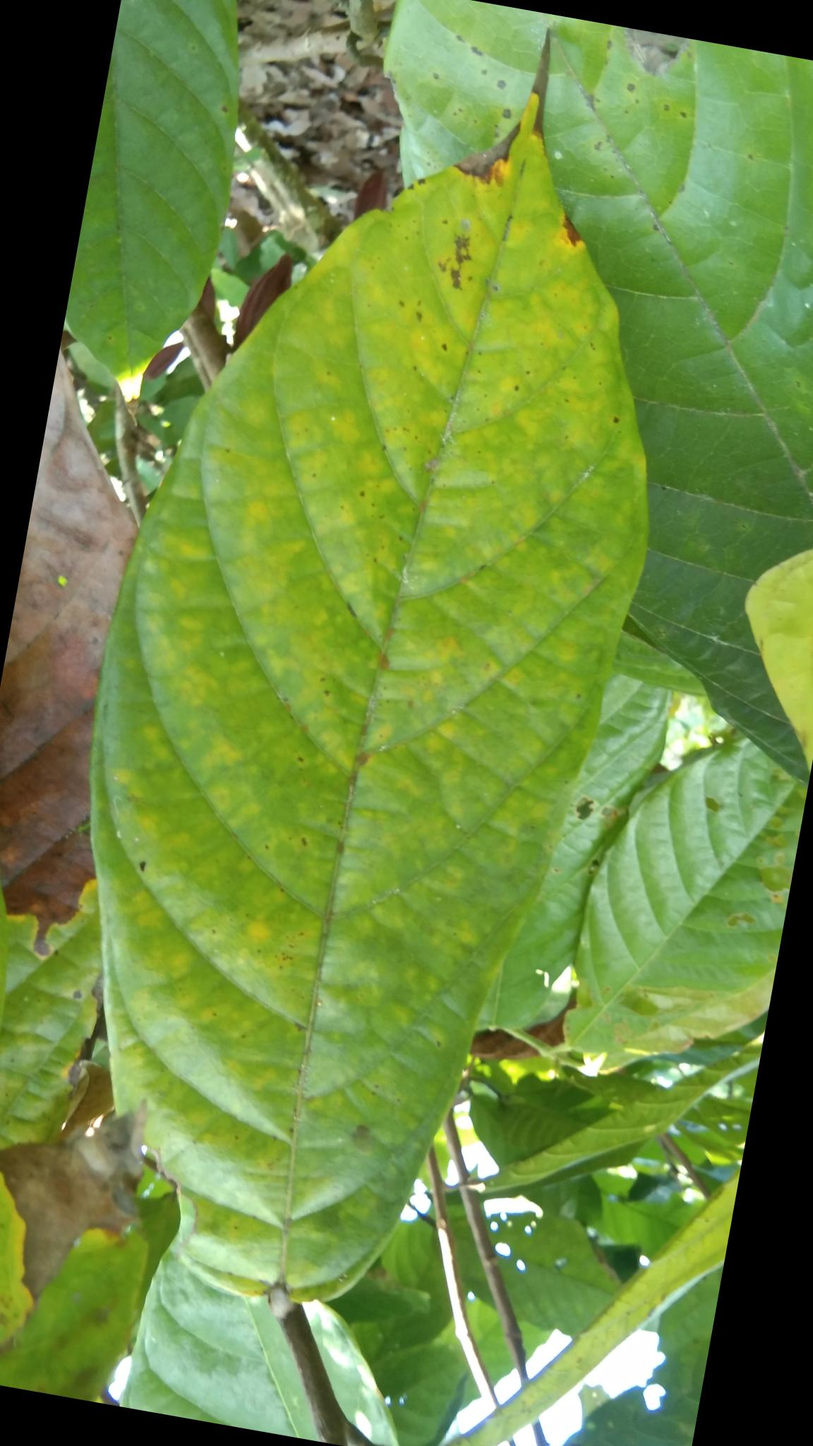Fosforo: (89, 79, 664, 1293)
